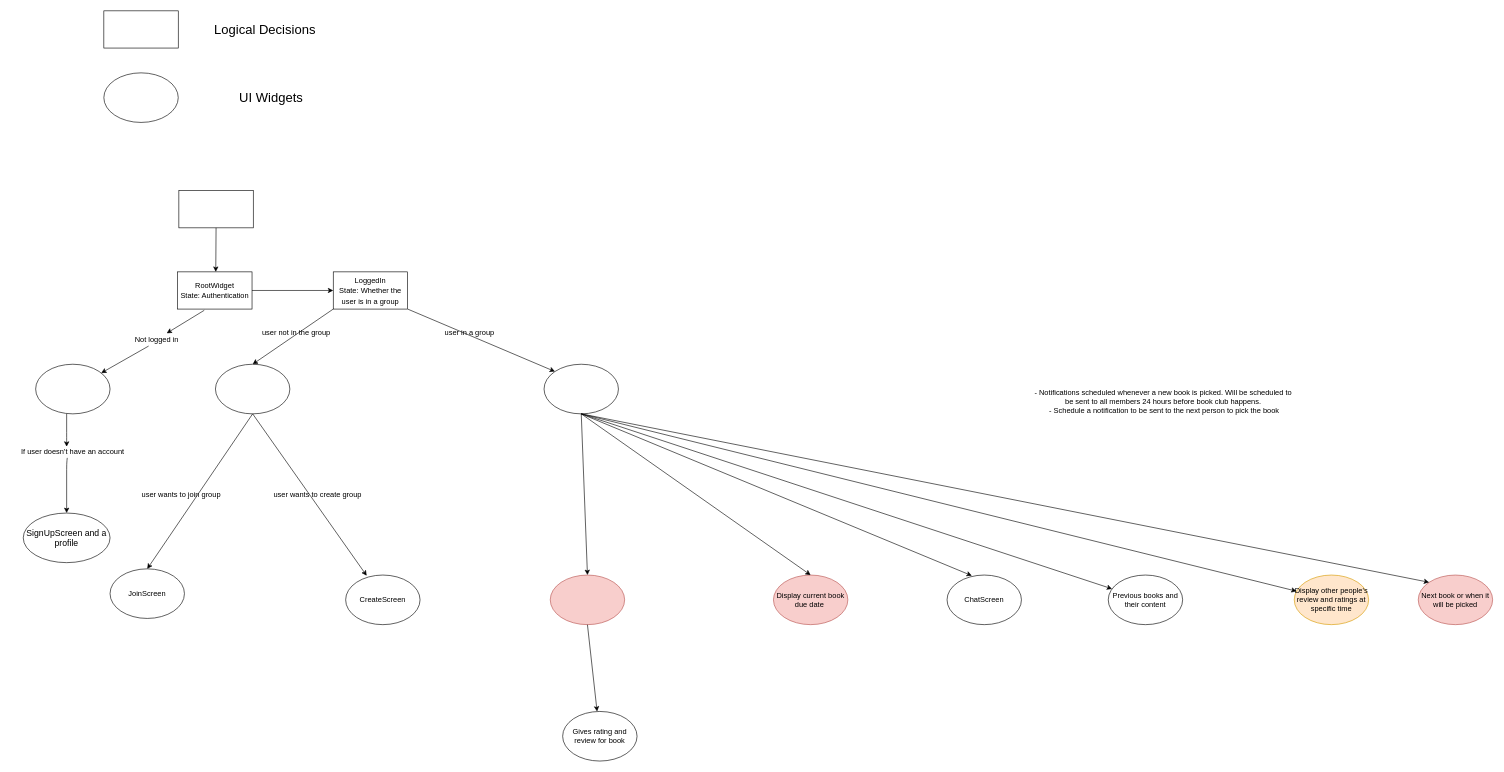
The diagram is 1504 pixels wide and 772 high, and some of its shapes have lost their labels. The centre of each missing label's shape, as x and y in pixels:
"Finished Current Book" goes at point (587, 599).
"GroupScreen" goes at point (580, 389).
"Join/Create group Screen" goes at point (252, 389).
"LoginScreen" goes at point (72, 389).
"MyApp" goes at point (215, 209).
